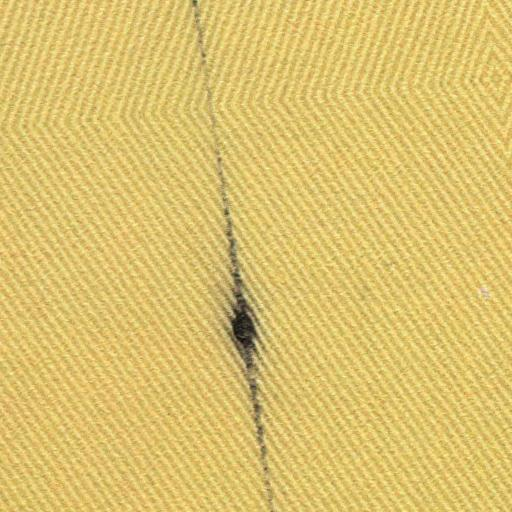stain: (186, 2, 278, 512)
